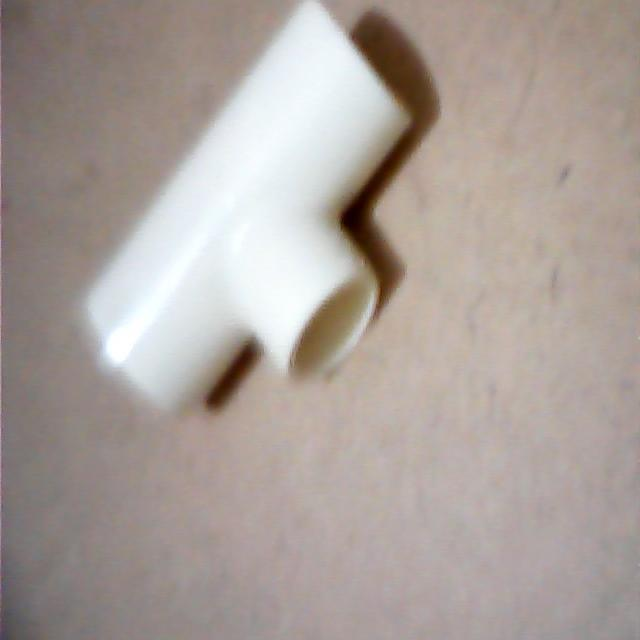T Joint: (85, 0, 415, 415)
